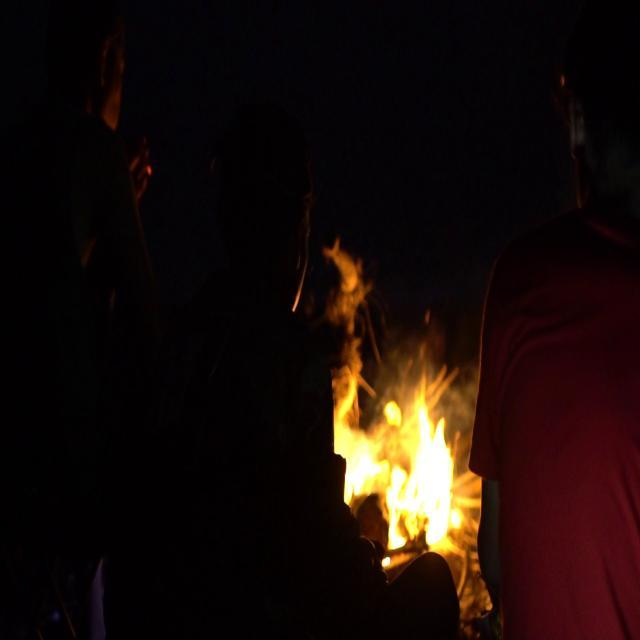Fire: (342, 380, 463, 578)
